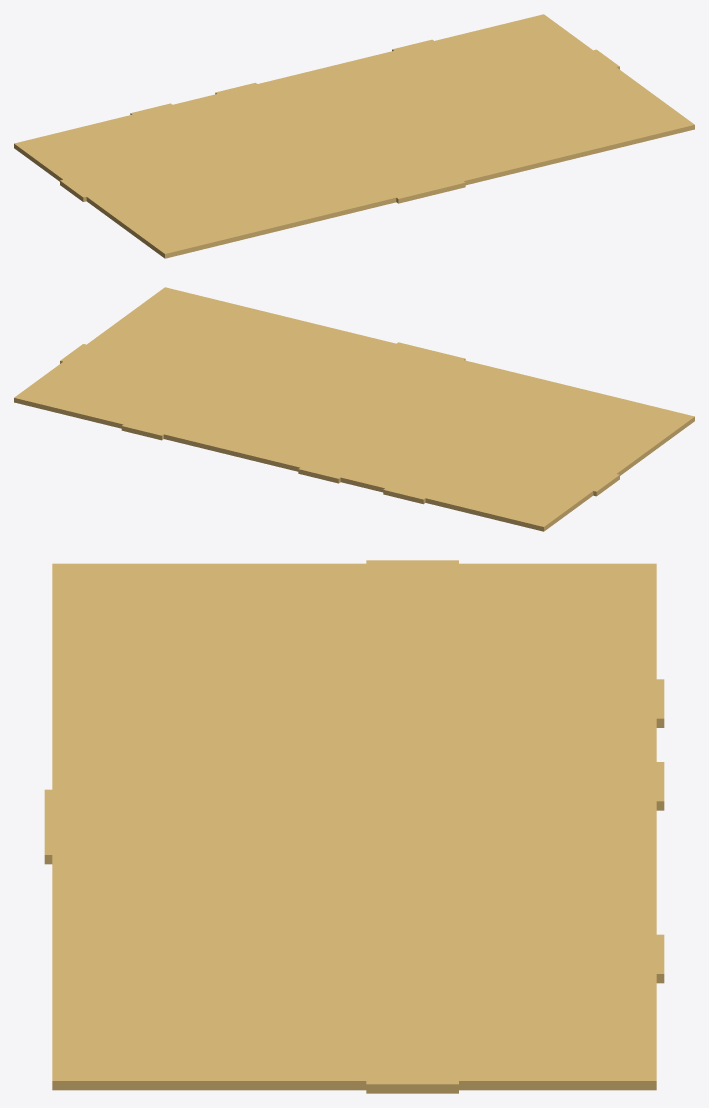
Rendered from Joglo_part_7.fbx.
The picture shows the model from 3 angles, top to bottom: view 1: azimuth 30°, elevation 25°; view 2: azimuth 150°, elevation 25°; view 3: azimuth 270°, elevation 25°; orthographic projection. The views are drawn at different scales.
Visible parts, largest first — view 1: Mesh107_Paint___Golden_Ochre_0.001; view 2: Mesh107_Paint___Golden_Ochre_0.001; view 3: Mesh107_Paint___Golden_Ochre_0.001.
Boxes of the visible parts, bbox=[...] form: Mesh107_Paint___Golden_Ochre_0.001: bbox=[14, 14, 694, 258]; Mesh107_Paint___Golden_Ochre_0.001: bbox=[14, 287, 694, 531]; Mesh107_Paint___Golden_Ochre_0.001: bbox=[44, 560, 664, 1093].
Size of the model in its own units: 472 by 3.94 by 236.
